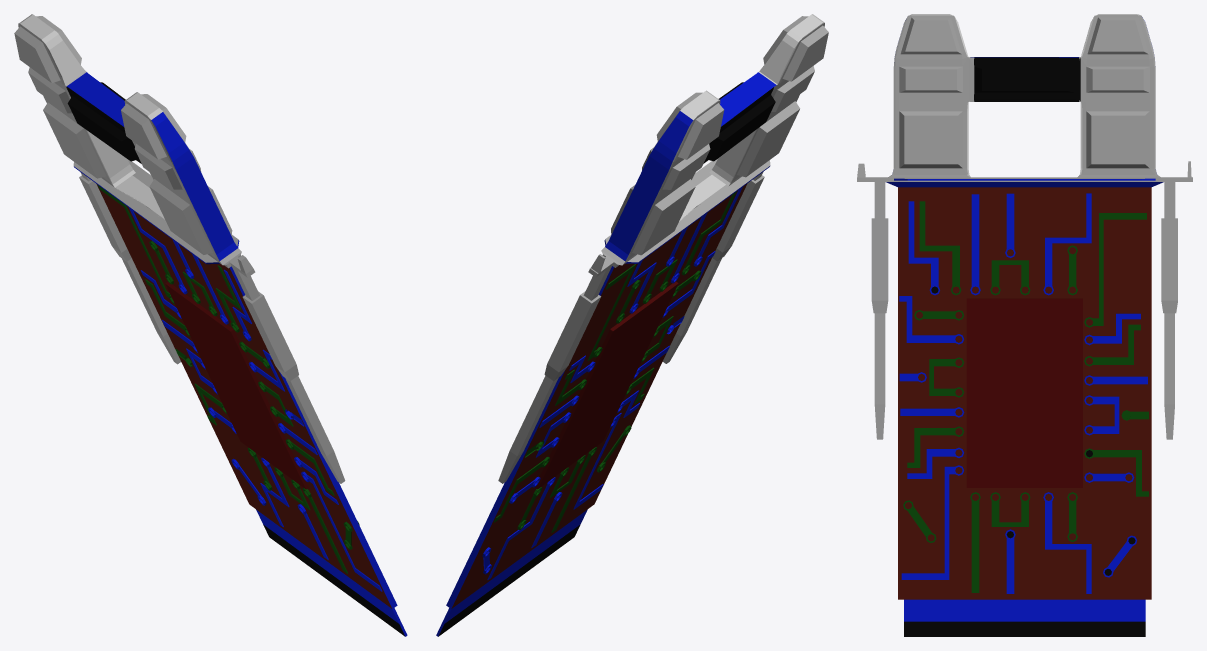
The model's file is key.obj.
3 renders of one model, left to right at view 1: azimuth 30°, elevation 25°; view 2: azimuth 150°, elevation 25°; view 3: azimuth 270°, elevation 25°, orthographic. The views are drawn at different scales.
Visible parts, largest first — view 1: chip_key_Cube; view 2: chip_key_Cube; view 3: chip_key_Cube.
Part boxes in pixels (x1,y1,x2,y2): chip_key_Cube: (14, 14, 407, 636); chip_key_Cube: (436, 14, 828, 636); chip_key_Cube: (857, 14, 1192, 636).
Size of the model in its own units: 4.31 by 9.2 by 5.4.
